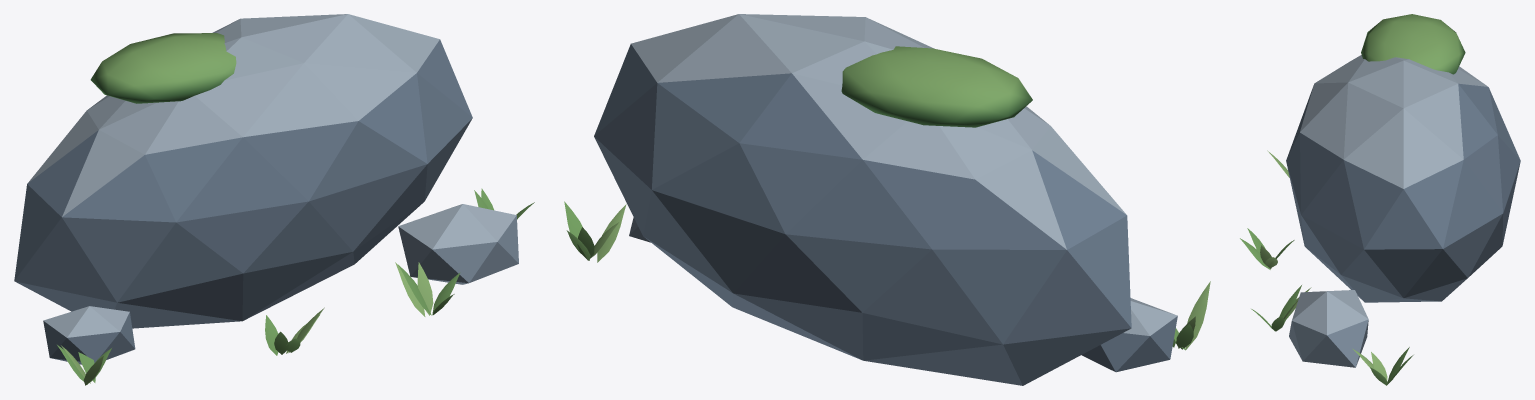
The model's file is pedra-do-jardim.glb.
The picture shows the model from 3 angles, left to right: view 1: azimuth 30°, elevation 25°; view 2: azimuth 150°, elevation 25°; view 3: azimuth 270°, elevation 25°; orthographic projection. The views are drawn at different scales.
Visible parts, largest first — view 1: pedra-do-jardim; view 2: pedra-do-jardim; view 3: pedra-do-jardim.
Boxes of the visible parts, x1,y1,x2,y2 form: pedra-do-jardim: (14, 14, 534, 385); pedra-do-jardim: (564, 14, 1210, 385); pedra-do-jardim: (1240, 14, 1520, 385).
Bounding box in the file's own units: 2.99 × 1.48 × 1.65.
